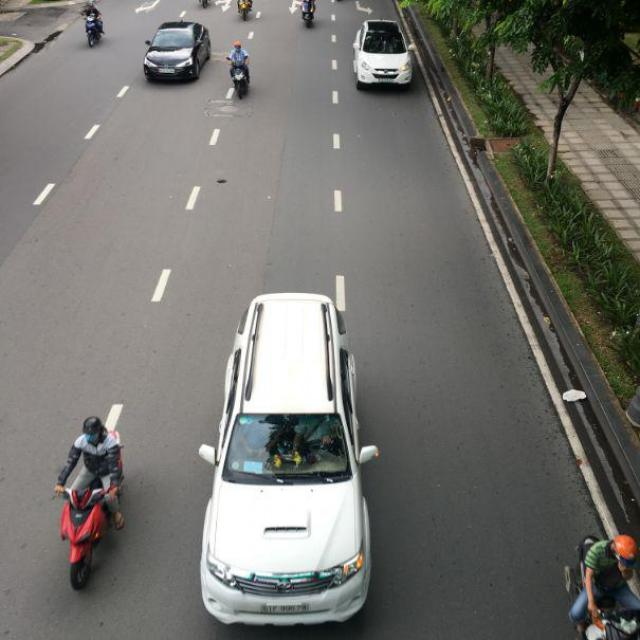car: (186, 292, 386, 629), (142, 22, 212, 85), (353, 20, 415, 87)
motorcycle: (59, 476, 126, 590), (227, 44, 251, 100), (85, 12, 104, 47), (238, 1, 252, 22)
